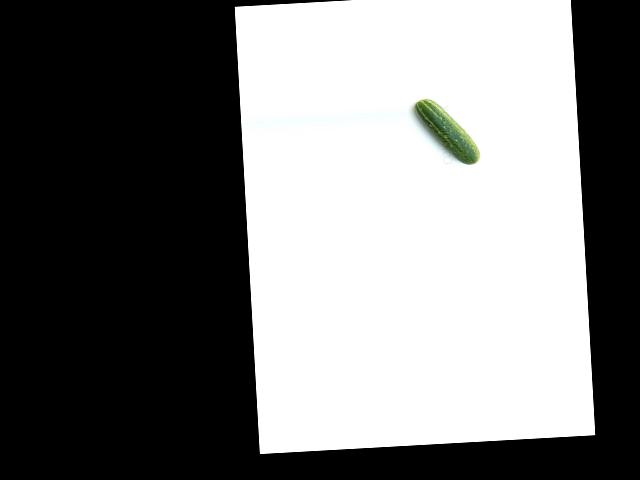cucumber: (414, 95, 480, 167)
